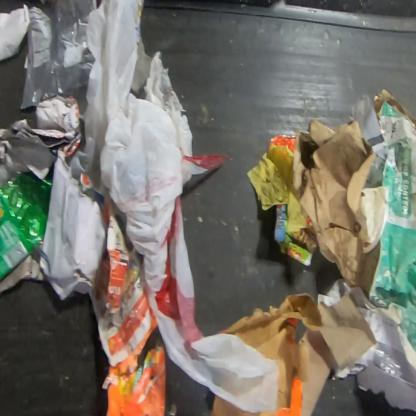cardboard: (208, 293, 378, 415), (292, 113, 385, 294), (272, 195, 318, 268), (372, 89, 416, 130)
metal: (267, 133, 295, 155)
rigid_plastic: (0, 172, 52, 280)
soft_plastic: (81, 0, 281, 414), (20, 0, 95, 110)
